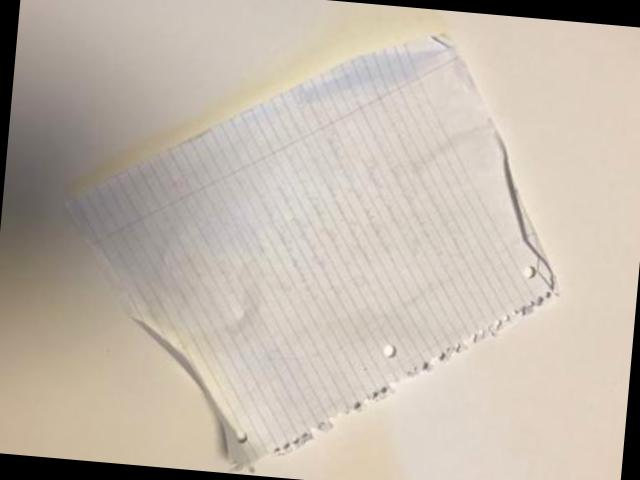cardboard paper: (70, 40, 556, 467)
